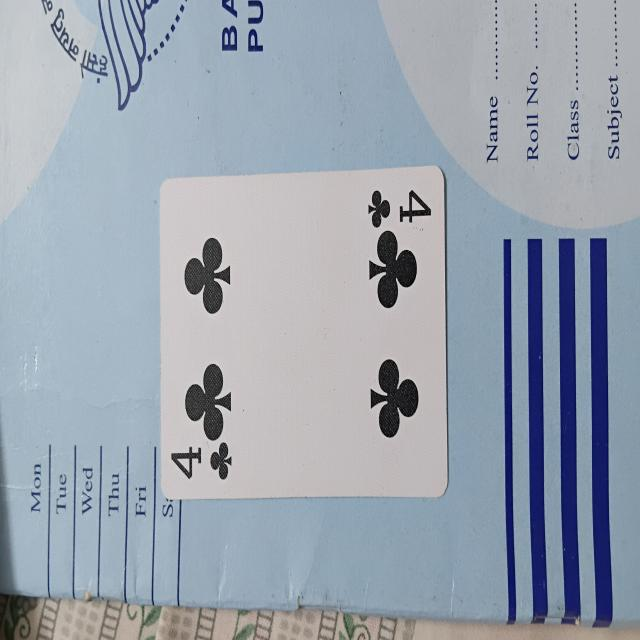4C: (154, 166, 446, 499)
